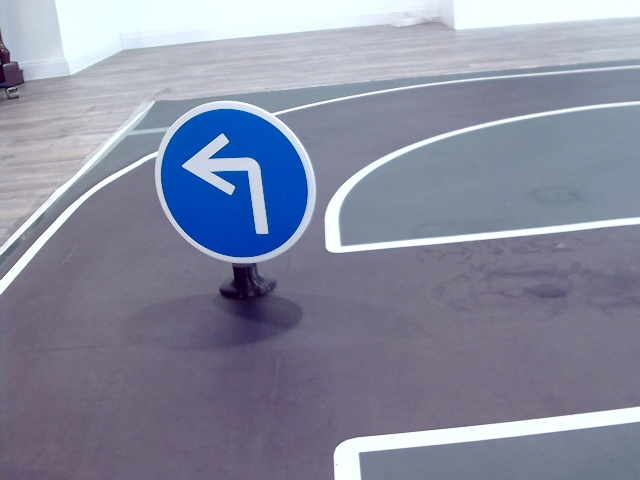turn_left: (181, 132, 277, 237)
